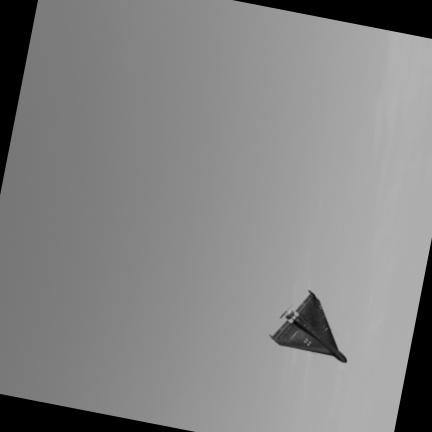Shahed: (272, 290, 346, 361)
